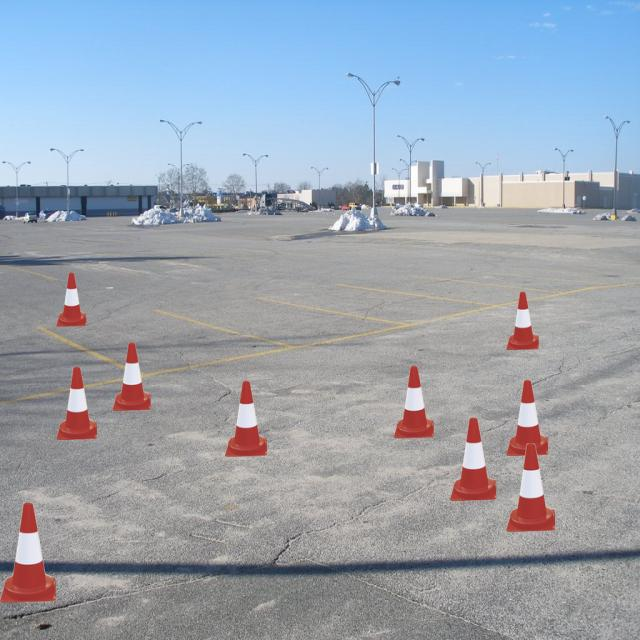orange_cone: (0, 502, 56, 602), (506, 443, 555, 532), (450, 417, 496, 501), (506, 380, 548, 456), (225, 381, 267, 457), (56, 367, 97, 440), (394, 366, 434, 438), (112, 342, 150, 411), (506, 292, 539, 350), (56, 272, 86, 326)
